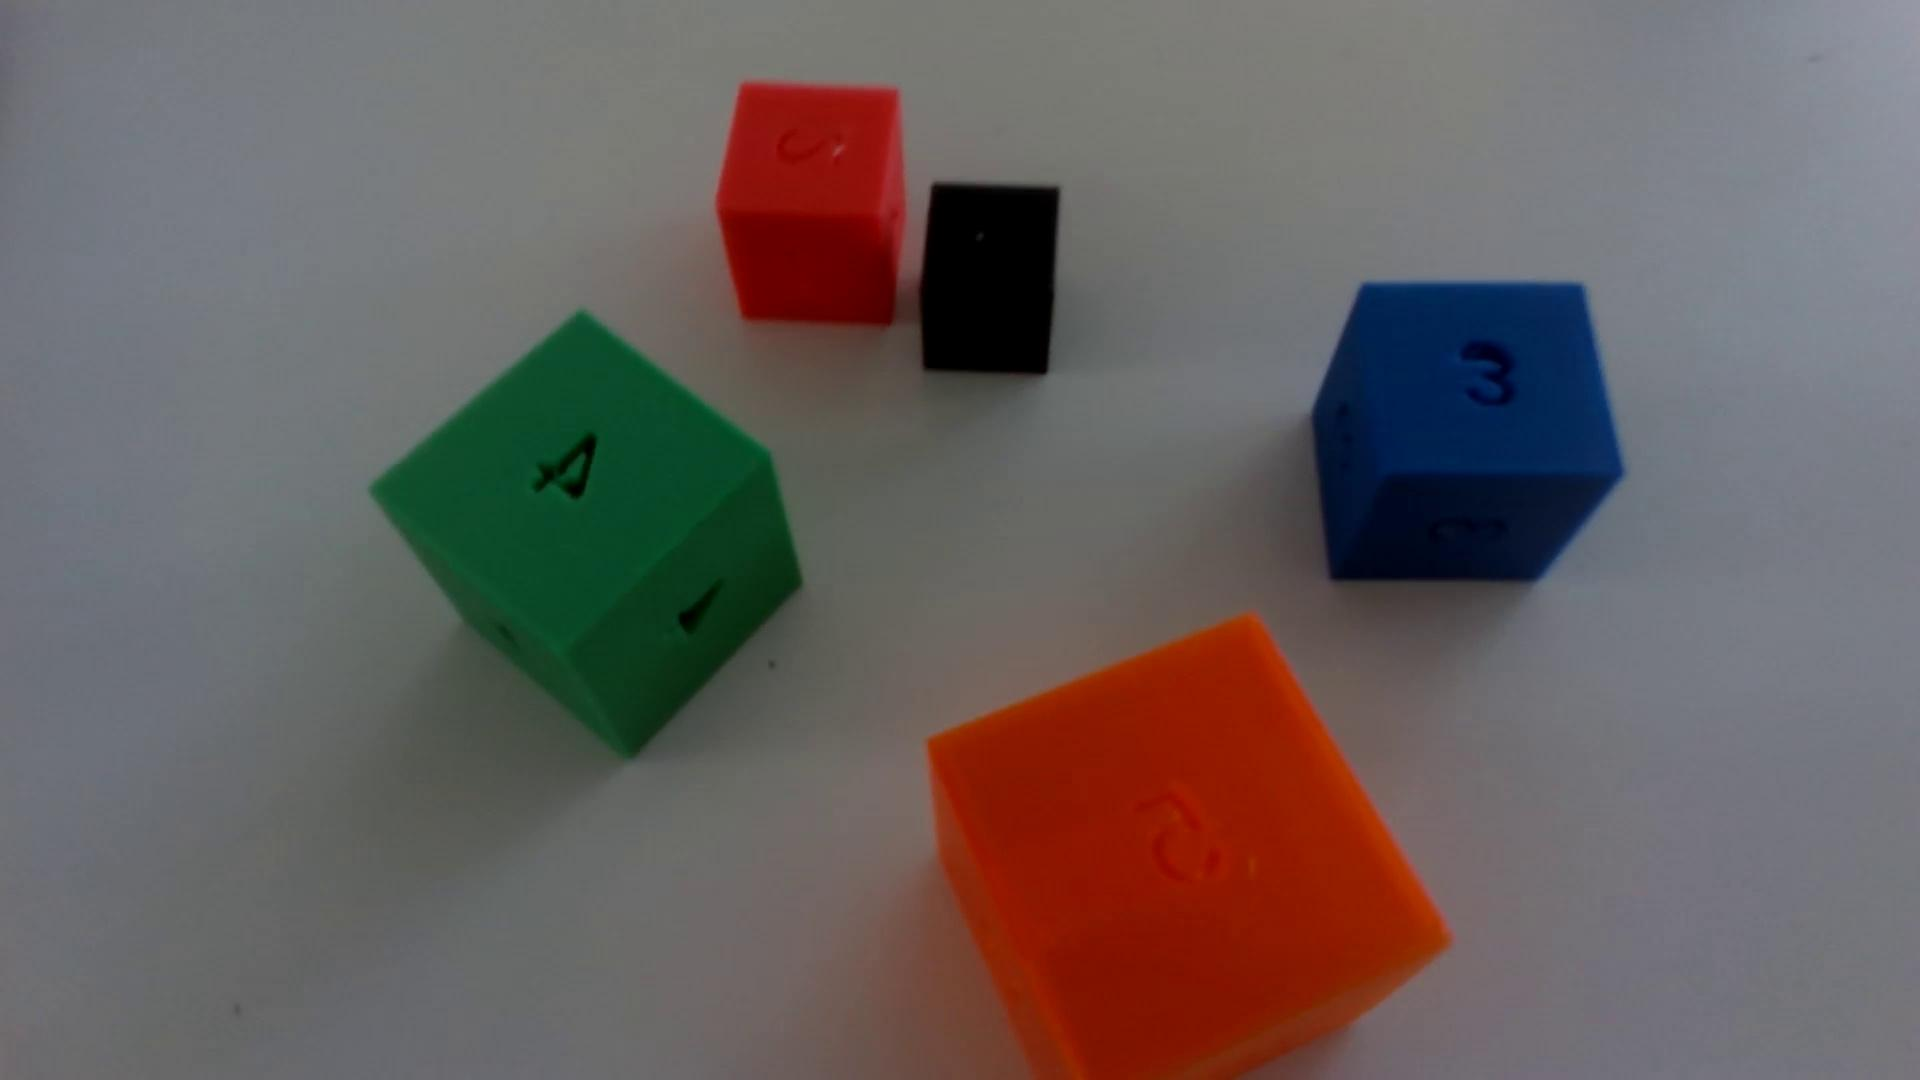black: (920, 183, 1062, 378)
blue: (1312, 282, 1625, 583)
green: (372, 313, 802, 756)
orange: (928, 616, 1449, 1080)
red: (716, 84, 907, 327)
